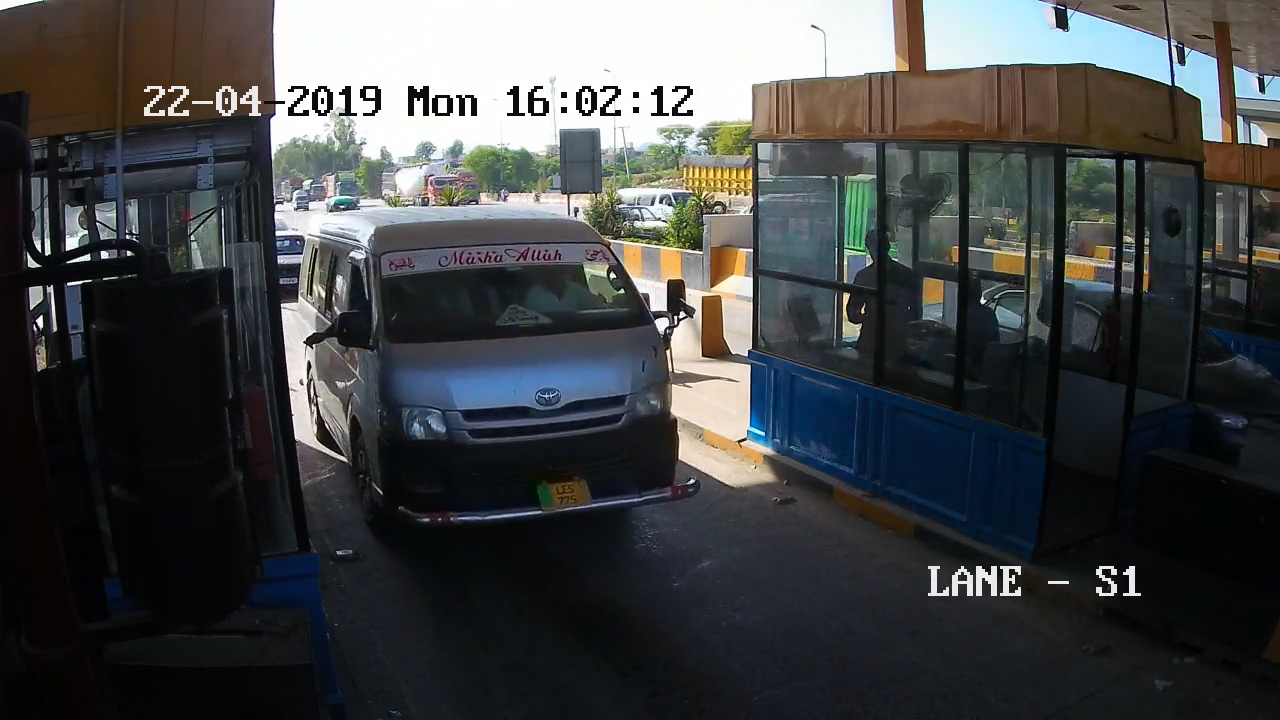Number Plate (Car): (530, 481, 596, 510)
